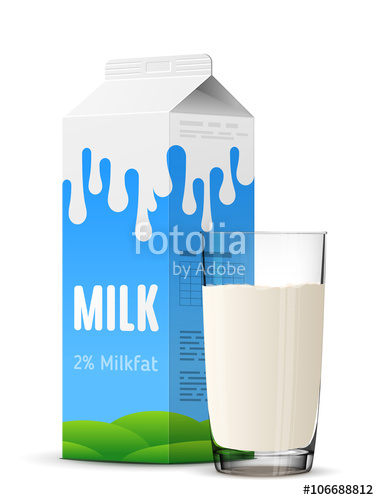glass of milk: (196, 222, 331, 485)
